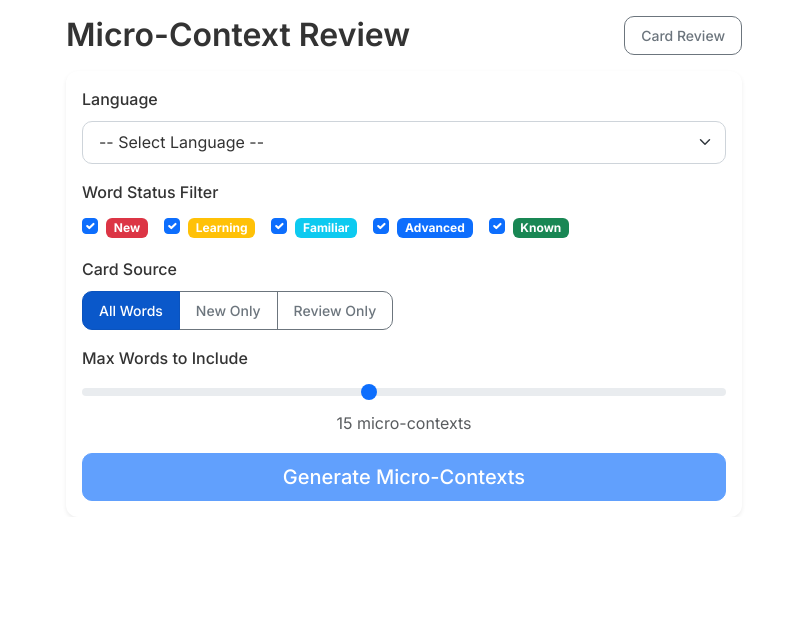
Test: SrsStoryReview (micro-contexts) › notes a word-status change on the reviewed card and updates that word elsewhere
Select "Spanish" in the dropdown labelled "Language": (404, 142) [82,121,726,164]
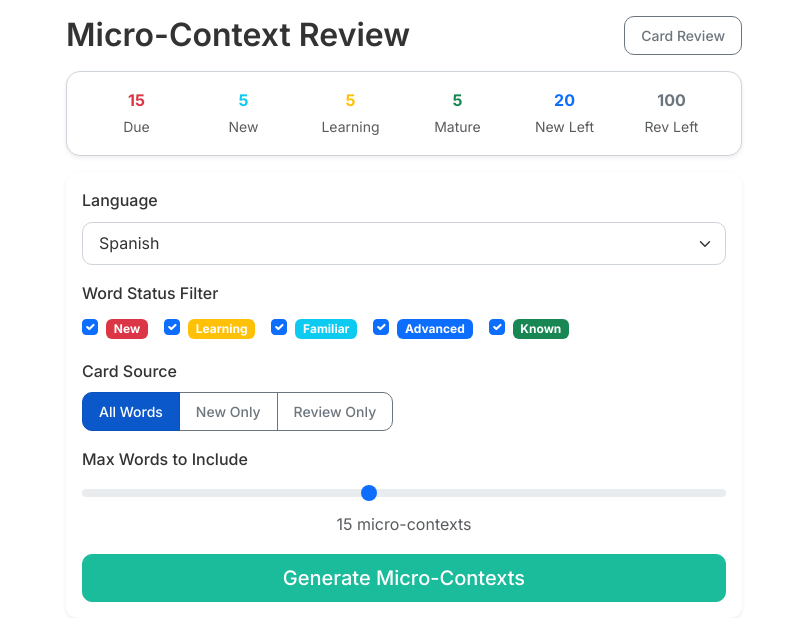
Click the button "Generate Micro-Contexts": (404, 578) [82,554,726,602]
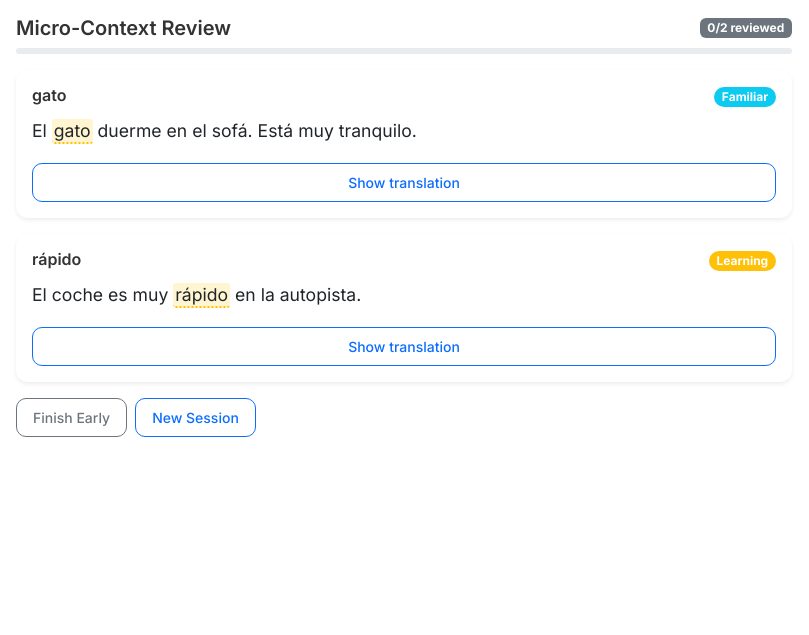
Click the button with test id "srs-microcontext-reveal" below "Familiar": (404, 182) [32,163,776,202]
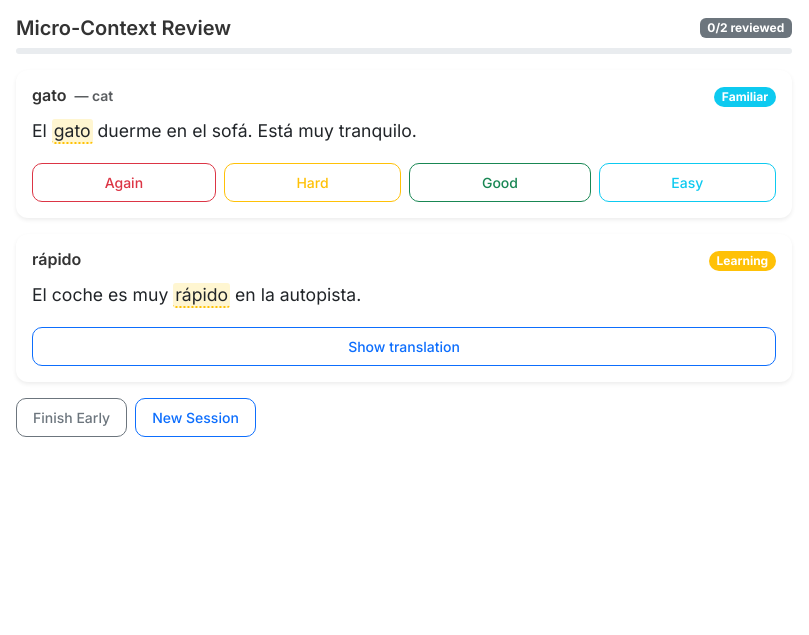
Click the button "Good": (500, 182) [409,163,591,202]
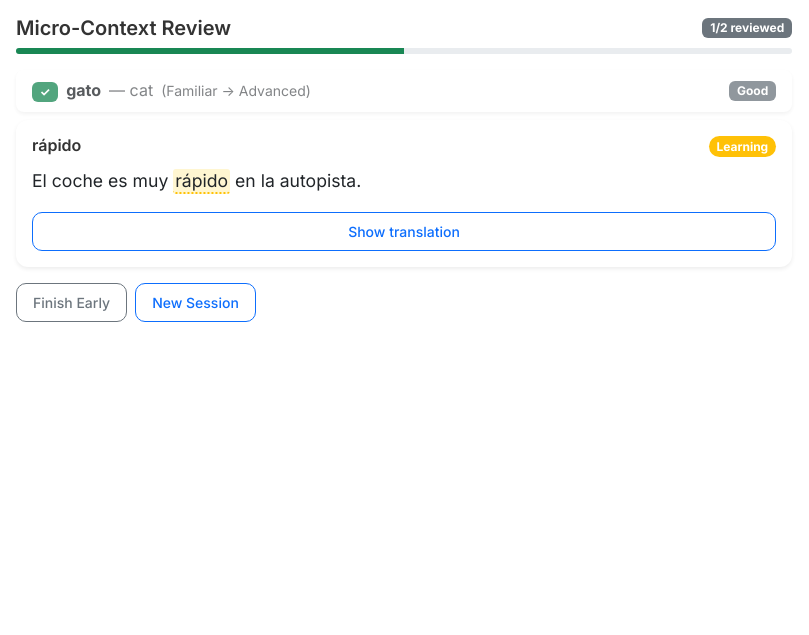
Now the text with test id "srs-microcontext-note" reads "(Familiar → Advanced)", box [166,82,306,99]
